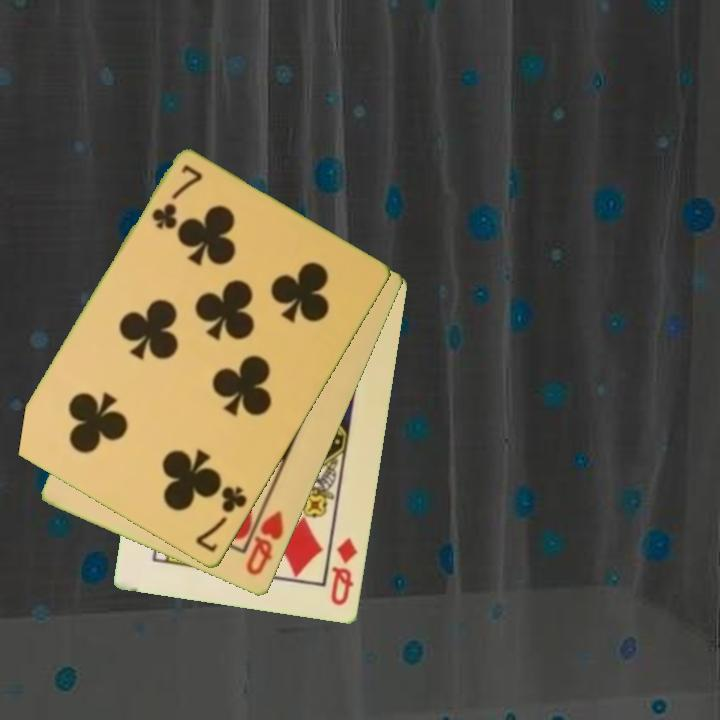7c: (192, 483, 251, 556), (148, 162, 206, 233)
Qd: (327, 534, 361, 609)
Qh: (242, 508, 287, 579)
